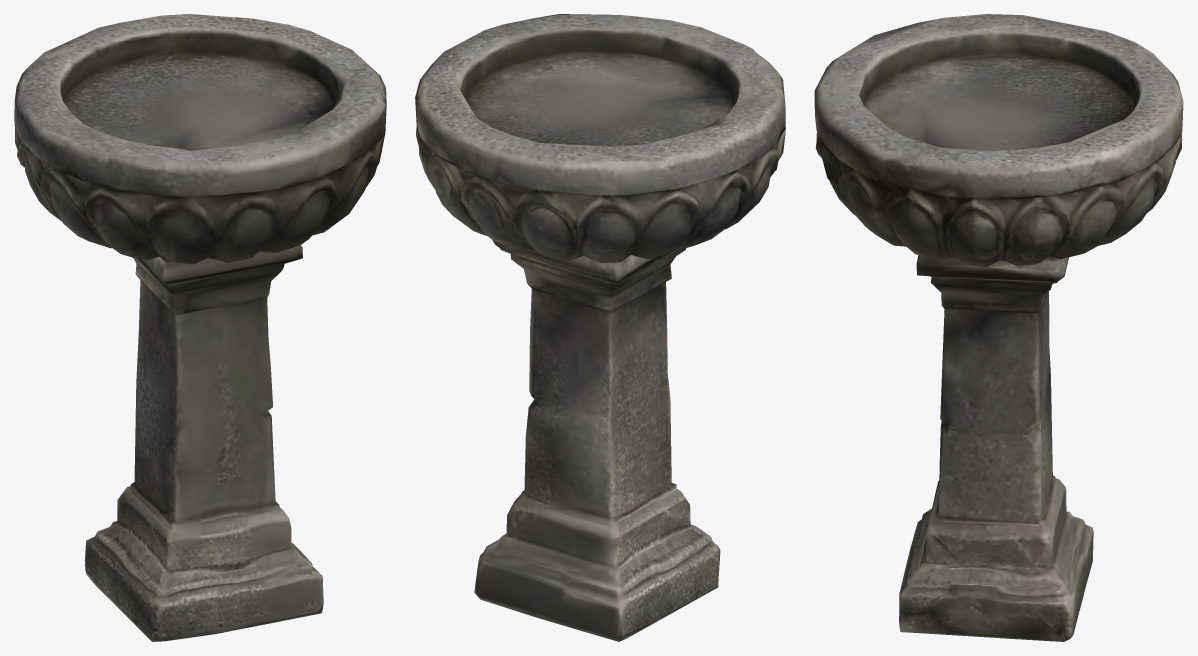
Rendered from fire.glb.
3 views of the same model, side by side, from view 1: azimuth 30°, elevation 25°; view 2: azimuth 150°, elevation 25°; view 3: azimuth 270°, elevation 25° (orthographic).
Visible parts, largest first — view 1: fire_bowl_stone; view 2: fire_bowl_stone; view 3: fire_bowl_stone.
Part boxes in pixels (x1=…): fire_bowl_stone: x1=14, y1=14, x2=386, y2=641; fire_bowl_stone: x1=415, y1=14, x2=785, y2=641; fire_bowl_stone: x1=814, y1=14, x2=1183, y2=641.
Size of the model in its own units: 0.2214 by 0.3333 by 0.2189.
1 material, 1 textured.
